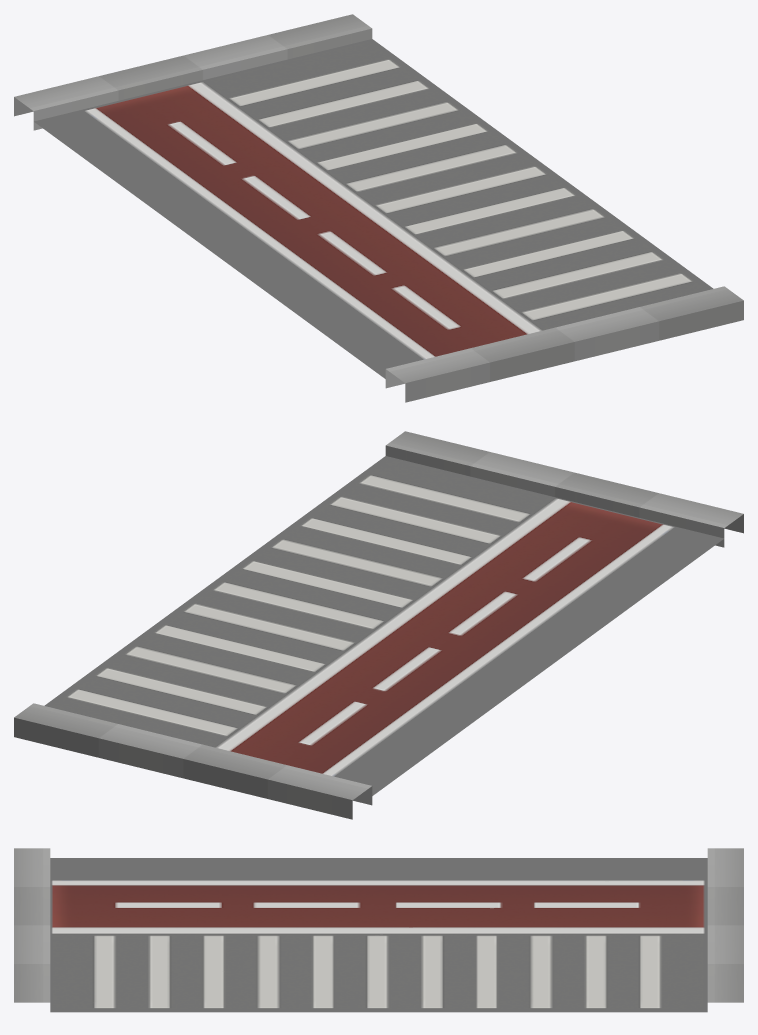
File: Road_B.fbx
The picture shows the model from 3 angles, top to bottom: view 1: azimuth 30°, elevation 25°; view 2: azimuth 150°, elevation 25°; view 3: azimuth 270°, elevation 25°; orthographic projection. The views are drawn at different scales.
Visible parts, largest first — view 1: Road_B; view 2: Road_B; view 3: Road_B.
Part boxes in pixels (box(x1,y1,x2,y2)): Road_B: box(14, 14, 743, 402); Road_B: box(14, 431, 743, 819); Road_B: box(14, 848, 743, 1012).
Size of the model in its own units: 1000 by 55.12 by 2000.
